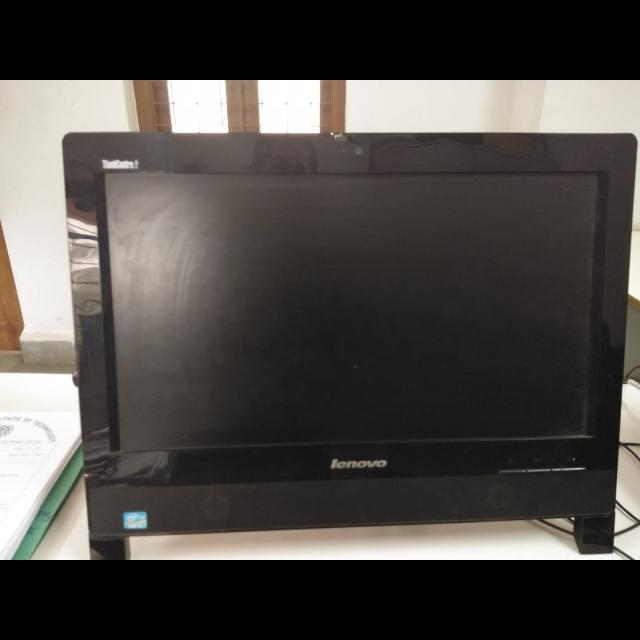Flat-Panel-Monitor: (58, 129, 640, 559)
